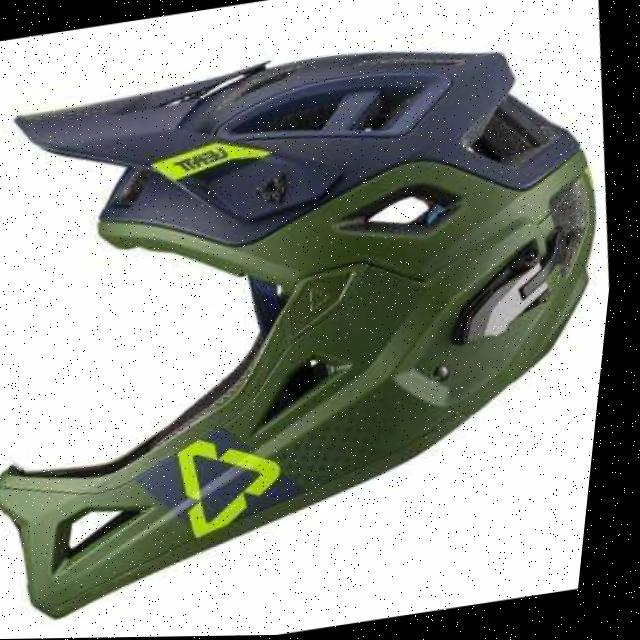illegal_helmet: (0, 0, 640, 635)
